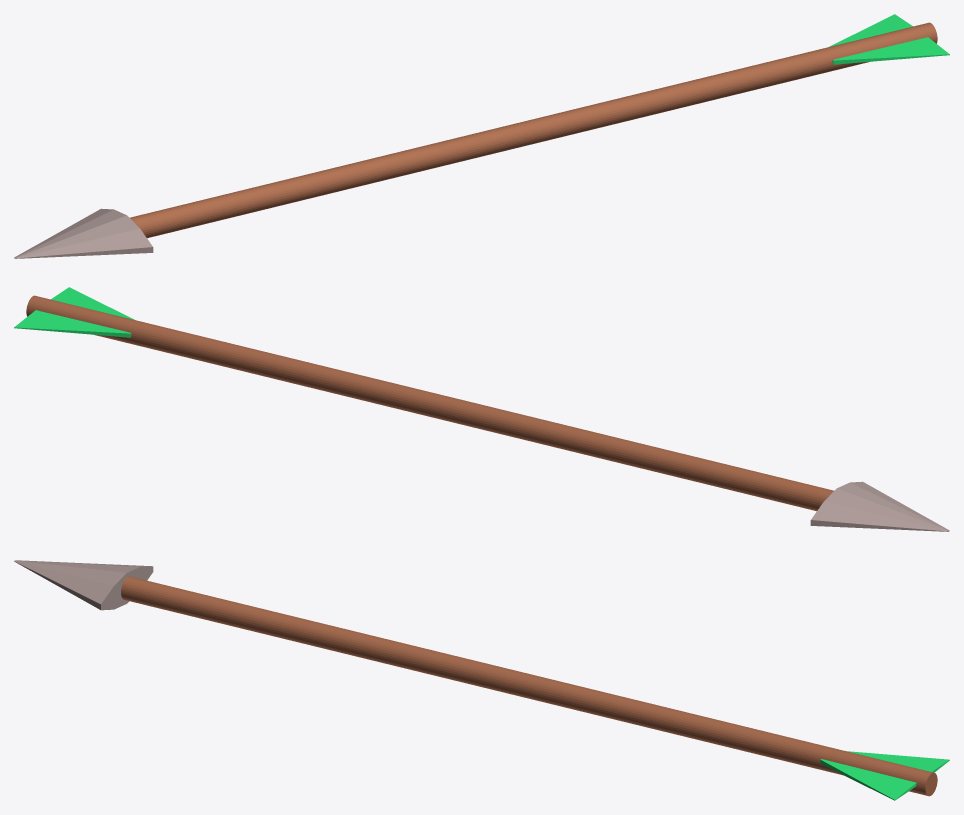
Rendered from flecha.fbx.
3 views of the same model, one above another, from view 1: azimuth 30°, elevation 25°; view 2: azimuth 150°, elevation 25°; view 3: azimuth 330°, elevation 25° (orthographic).
Parts seen in each view (by area): view 1: Cube; view 2: Cube; view 3: Cube.
Part boxes in pixels (x1=…): Cube: x1=14, y1=14, x2=949, y2=258; Cube: x1=14, y1=287, x2=949, y2=531; Cube: x1=14, y1=560, x2=949, y2=800.
Size of the model in its own units: 318 by 10.27 by 33.14.
